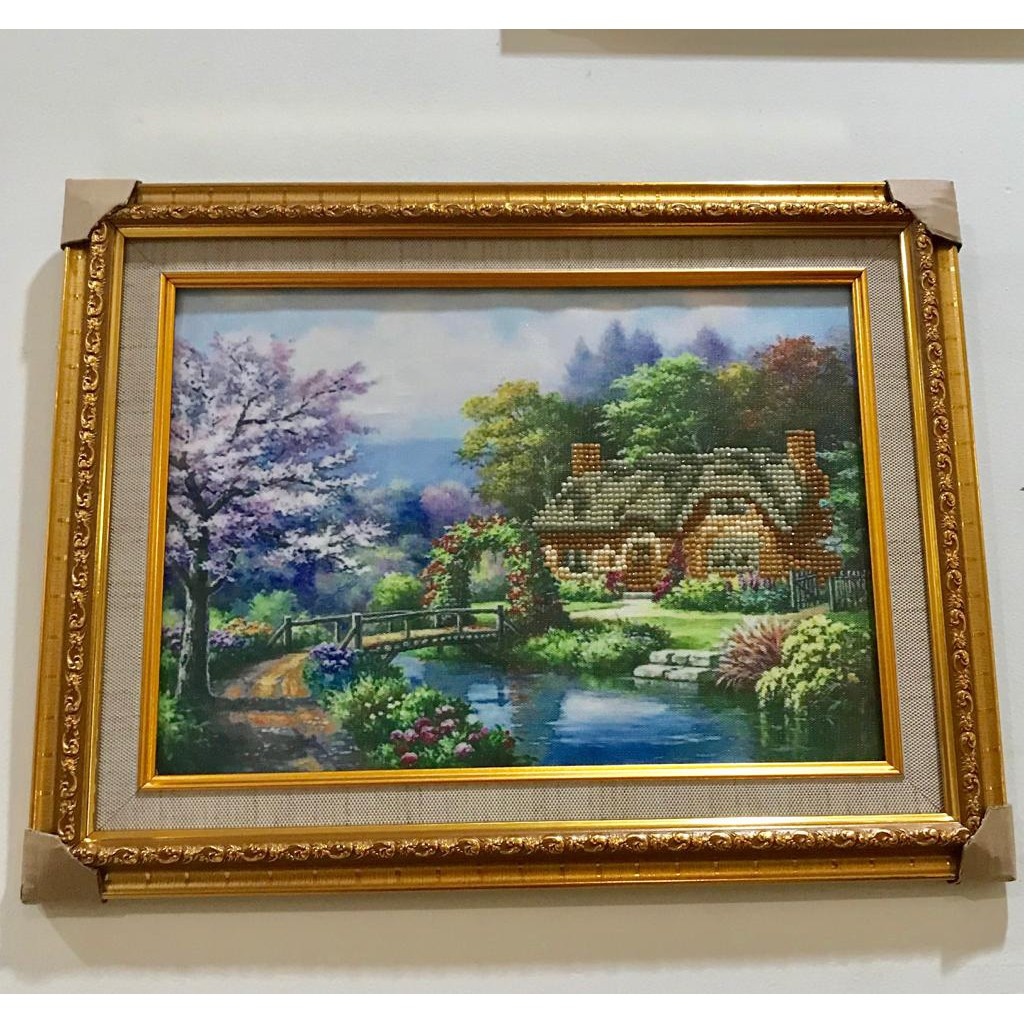lukisan: (31, 168, 1024, 921)
